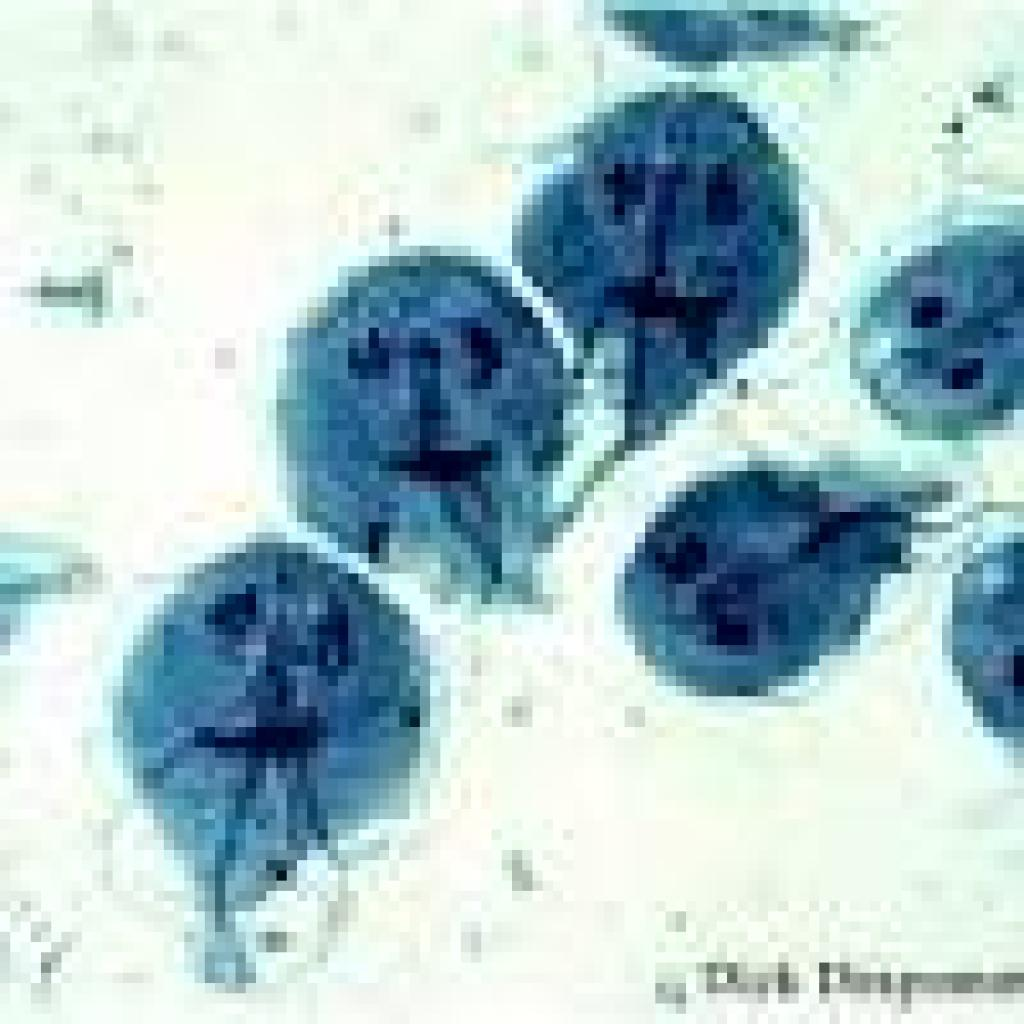Giardia: (92, 532, 440, 994), (502, 72, 798, 492), (266, 226, 563, 614), (594, 461, 942, 717), (839, 215, 1024, 450), (583, 0, 880, 61), (952, 522, 1024, 758)
